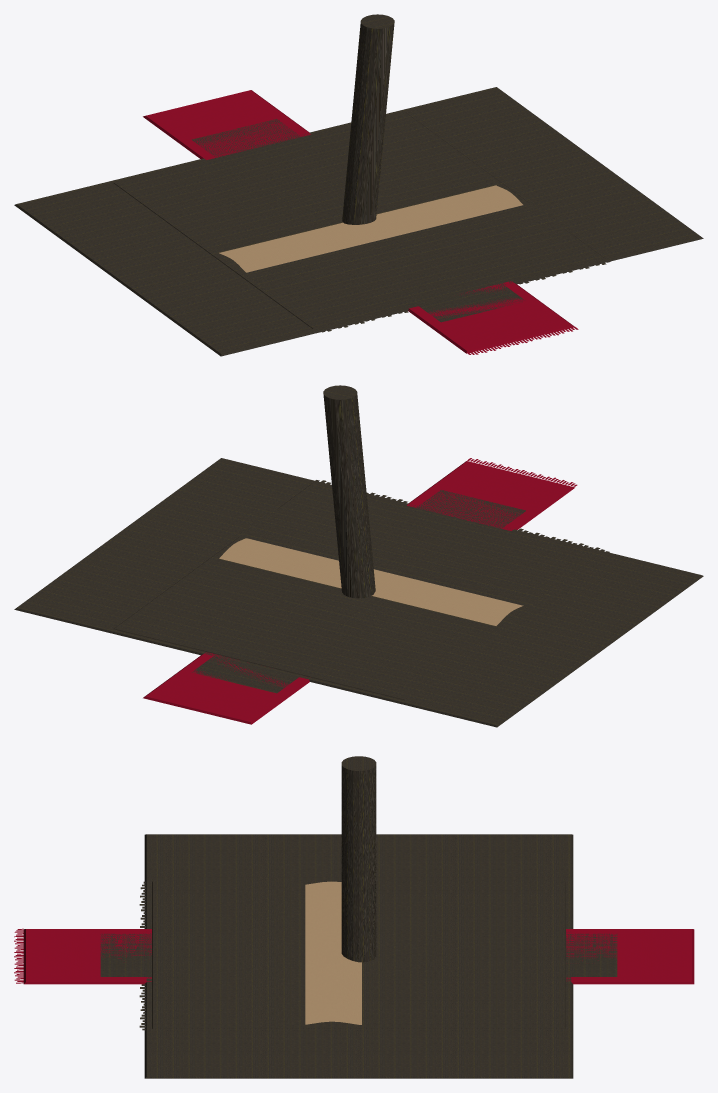
Rendered from conservatory-textiles.glb.
3 views of the same model, one above another, from view 1: azimuth 30°, elevation 25°; view 2: azimuth 150°, elevation 25°; view 3: azimuth 270°, elevation 25° (orthographic). The views are drawn at different scales.
Parts seen in each view (by area): view 1: atrium_waiting_rug, textile_studio_carpet, textile_chapel_runner, textile_drugget_stage, textile_rolled, textile_corridor_runner; view 2: atrium_waiting_rug, textile_studio_carpet, textile_chapel_runner, textile_corridor_runner, textile_rolled, textile_drugget_stage; view 3: atrium_waiting_rug, textile_studio_carpet, textile_chapel_runner, textile_corridor_runner, textile_rolled, textile_drugget_stage.
Boxes of the visible parts, x1,y1,x2,y2 form: atrium_waiting_rug: (113,112,610,333); textile_studio_carpet: (14,87,703,356); textile_chapel_runner: (143,90,578,354); textile_drugget_stage: (219,185,522,272); textile_rolled: (342,14,394,224); textile_corridor_runner: (192,119,523,322); atrium_waiting_rug: (113,480,609,700); textile_studio_carpet: (14,458,703,727); textile_chapel_runner: (143,458,577,724); textile_corridor_runner: (192,490,525,693); textile_rolled: (323,385,375,598); textile_drugget_stage: (219,538,523,625); atrium_waiting_rug: (139,877,565,1030); textile_studio_carpet: (144,834,573,1078); textile_chapel_runner: (14,928,694,984); textile_corridor_runner: (100,928,617,976); textile_rolled: (341,756,376,962); textile_drugget_stage: (305,881,361,1024).
Bounding box in the file's own units: 6.2 × 2.4 × 7.41.
4 materials, 4 textured.
